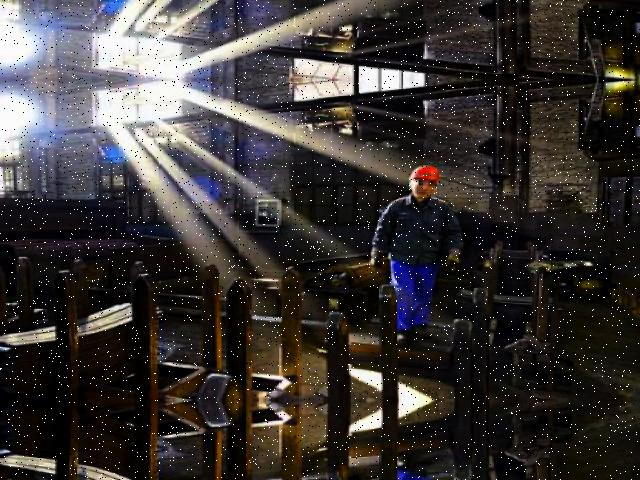Helmet: (408, 160, 445, 192)
